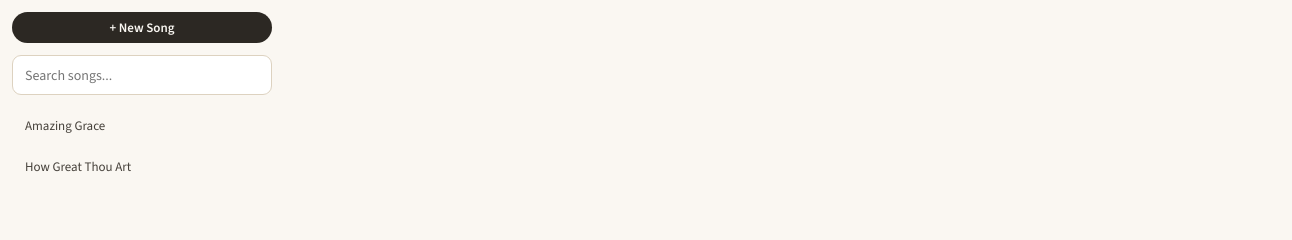
SongLibraryPanel › lets the error banner be dismissed
Click the button "Amazing Grace".
click(65, 126)  # box [12,107,272,144]
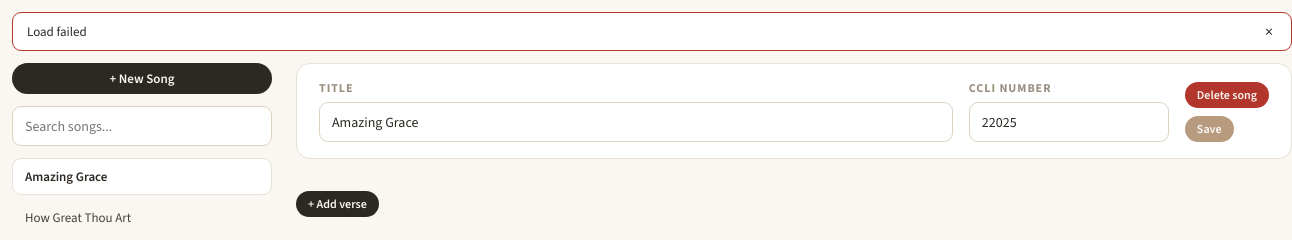
Expected: the message "Load failed ×" is shown, [12,12,1291,51]
Click the button named "dismiss error".
click(1269, 32)  # box [1261,24,1277,40]
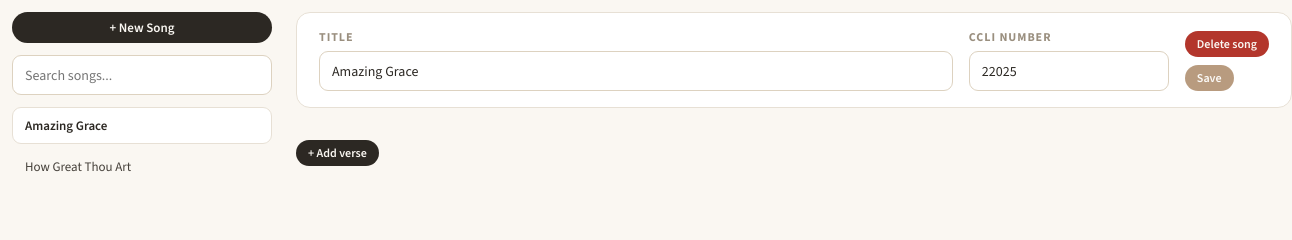
Expected: the message "Load failed ×" is gone
